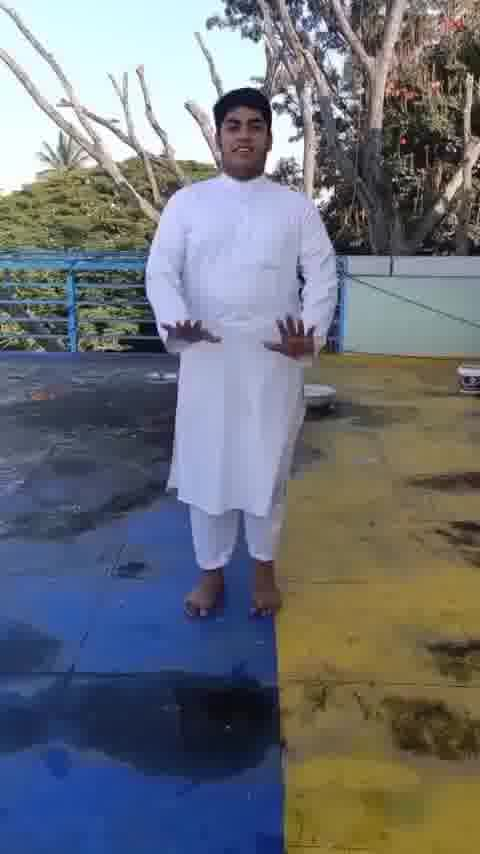duck: (139, 79, 344, 637)
